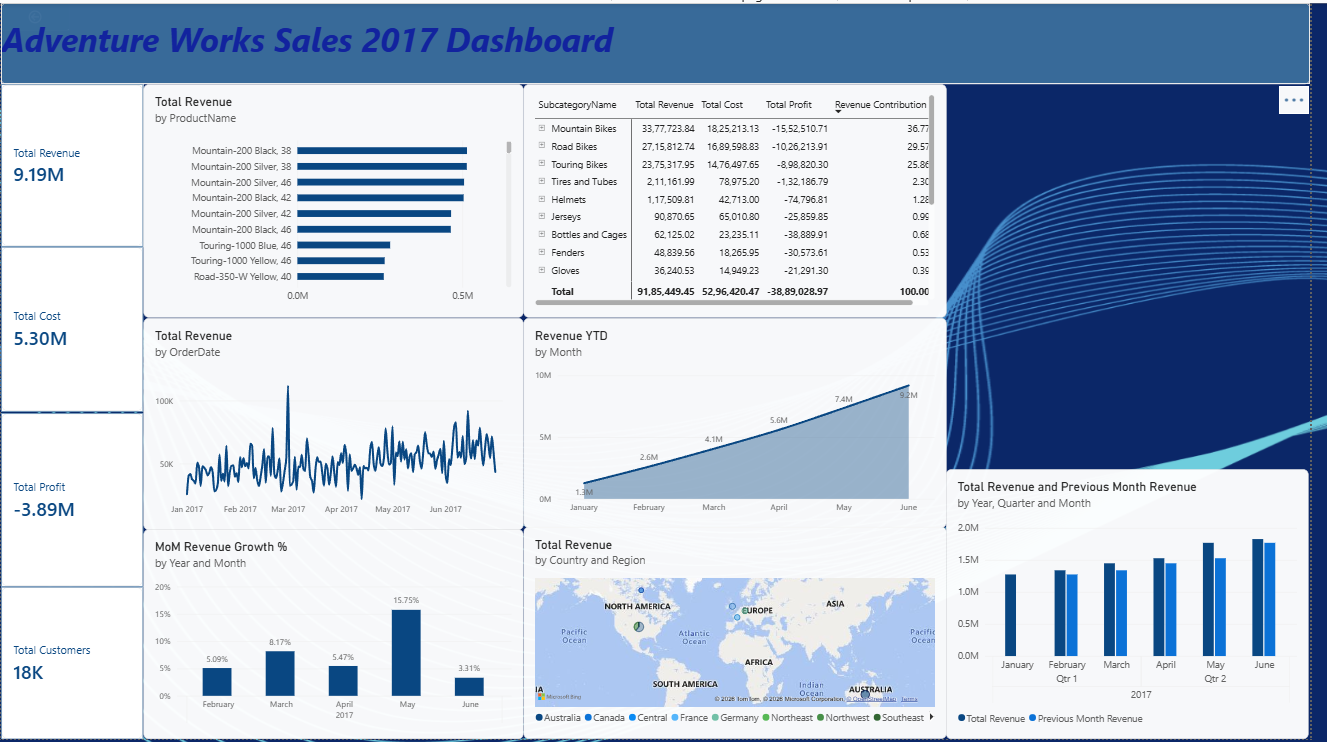

The page's visual inventory and layout, read from the dashboard file:
{"tool":"powerbi","page":{"name":"Page 1","canvas":[1920,1080],"ordinal":0},"visuals":[{"type":"cardVisual","fields":{"Data":["AdventureWorks_Sales_2017.Total Revenue"]},"box":[0,119.4,209.9,238.9],"z":0},{"type":"cardVisual","fields":{"Data":["AdventureWorks_Sales_2017.Total Profit"]},"box":[0,600.8,209.9,255.2],"z":1000},{"type":"cardVisual","fields":{"Data":["AdventureWorks_Sales_2017.Total Cost"]},"box":[0,358.3,209.9,242.5],"z":2000},{"type":"cardVisual","fields":{"Data":["AdventureWorks_Sales_2017.Total Customers"]},"box":[0,856,209.9,224.4],"z":3000},{"type":"lineChart","fields":{"Category":["AdventureWorks_Sales_2017.OrderDate"],"Y":["AdventureWorks_Sales_2017.Total Revenue"]},"box":[209.9,461.5,557.4,311.3],"z":4000},{"type":"clusteredBarChart","fields":{"Category":["AdventureWorks_Products.ProductName"],"Y":["AdventureWorks_Sales_2017.Total Revenue"]},"box":[209.9,119.4,557.4,342],"z":5000},{"type":"clusteredColumnChart","fields":{"Category":["AdventureWorks_Calendar.Date.Variation.Date Hierarchy.Year","AdventureWorks_Calendar.Date.Variation.Date Hierarchy.Quarter","AdventureWorks_Calendar.Date.Variation.Date Hierarchy.Month","AdventureWorks_Calendar.Date.Variation.Date Hierarchy.Day"],"Y":["AdventureWorks_Sales_2017.Total Revenue","AdventureWorks_Sales_2017.Previous Month Revenue"]},"box":[1386.7,684.2,532,396.3],"z":6000},{"type":"actionButton","box":[0,0,100,40],"z":7000},{"type":"areaChart","fields":{"Category":["AdventureWorks_Calendar.Date.Variation.Date Hierarchy.Month"],"Y":["AdventureWorks_Sales_2017.Revenue YTD"]},"box":[767.3,461.5,620.7,307.6],"z":7001},{"type":"clusteredColumnChart","fields":{"Category":["AdventureWorks_Calendar.Date.Variation.Date Hierarchy.Year","AdventureWorks_Calendar.Date.Variation.Date Hierarchy.Month"],"Y":["AdventureWorks_Sales_2017.MoM Revenue Growth %"]},"box":[209.9,772.7,557.4,307.6],"z":7002},{"type":"pivotTable","fields":{"Rows":["AdventureWorks_Product_Subcateg.SubcategoryName","AdventureWorks_Products.ProductName"],"Values":["AdventureWorks_Sales_2017.Total Revenue","AdventureWorks_Sales_2017.Total Cost","AdventureWorks_Sales_2017.Total Profit","AdventureWorks_Sales_2017.Revenue Contribution %"]},"box":[767.3,119.4,620.7,342],"z":7003},{"type":"textbox","box":[0,0,1920.5,119.2],"z":7004},{"type":"map","fields":{"Category":["AdventureWorks_Territories.Country"],"Series":["AdventureWorks_Territories.Region"],"Size":["AdventureWorks_Sales_2017.Total Revenue"]},"box":[767.3,769.1,620.7,311.3],"z":7005}]}

Visuals, with their boxes in screenshot pixels (x1, y1, x2, y2), scaled from the page's 1920x1080 canvas onto the 1327x742 screenshot:
cardVisual - AdventureWorks_Sales_2017.Total Revenue: l=0, t=82, r=145, b=246
cardVisual - AdventureWorks_Sales_2017.Total Profit: l=0, t=413, r=145, b=588
cardVisual - AdventureWorks_Sales_2017.Total Cost: l=0, t=246, r=145, b=413
cardVisual - AdventureWorks_Sales_2017.Total Customers: l=0, t=588, r=145, b=741
lineChart - AdventureWorks_Sales_2017.OrderDate x AdventureWorks_Sales_2017.Total Revenue: l=145, t=317, r=530, b=531
clusteredBarChart - AdventureWorks_Products.ProductName x AdventureWorks_Sales_2017.Total Revenue: l=145, t=82, r=530, b=317
clusteredColumnChart - AdventureWorks_Calendar.Date.Variation.Date Hierarchy.Year x AdventureWorks_Calendar.Date.Variation.Date Hierarchy.Quarter: l=958, t=470, r=1326, b=741
actionButton: l=0, t=0, r=69, b=27
areaChart - AdventureWorks_Calendar.Date.Variation.Date Hierarchy.Month x AdventureWorks_Sales_2017.Revenue YTD: l=530, t=317, r=959, b=528
clusteredColumnChart - AdventureWorks_Calendar.Date.Variation.Date Hierarchy.Year x AdventureWorks_Calendar.Date.Variation.Date Hierarchy.Month: l=145, t=531, r=530, b=741
pivotTable - AdventureWorks_Product_Subcateg.SubcategoryName x AdventureWorks_Products.ProductName: l=530, t=82, r=959, b=317
textbox: l=0, t=0, r=1326, b=82
map - AdventureWorks_Territories.Country x AdventureWorks_Territories.Region: l=530, t=528, r=959, b=741
